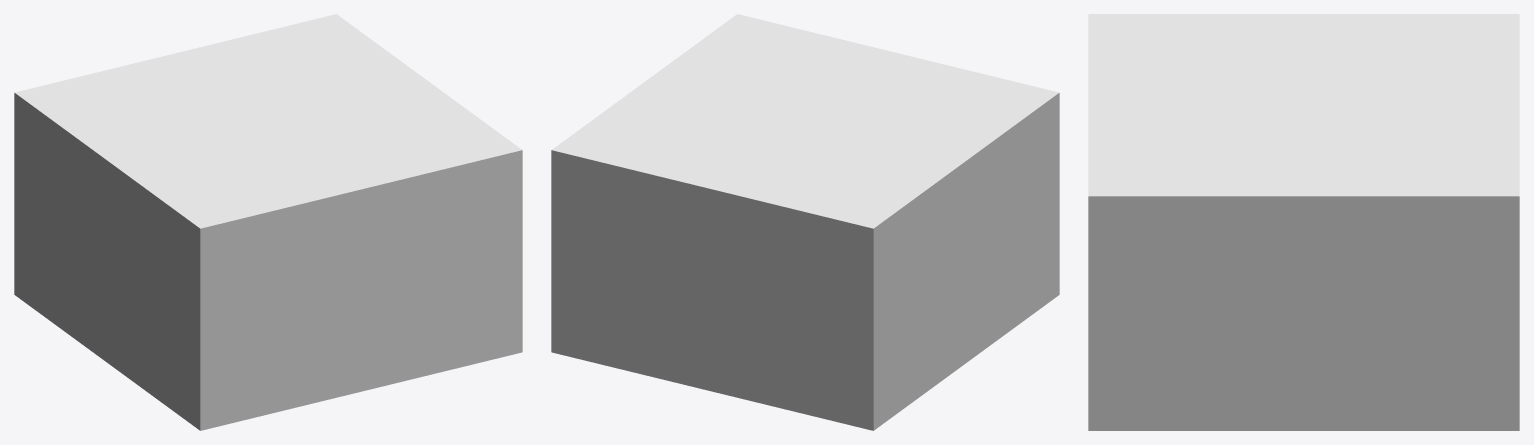
3 renders of one model, left to right at view 1: azimuth 30°, elevation 25°; view 2: azimuth 150°, elevation 25°; view 3: azimuth 270°, elevation 25°, orthographic. The views are drawn at different scales.
Parts seen in each view (by area): view 1: Cube_40x40x24; view 2: Cube_40x40x24; view 3: Cube_40x40x24.
Boxes of the visible parts, x1,y1,x2,y2 form: Cube_40x40x24: (14,14,522,430); Cube_40x40x24: (551,14,1059,430); Cube_40x40x24: (1088,14,1519,430).
Size of the model in its own units: 40 by 24 by 40.
